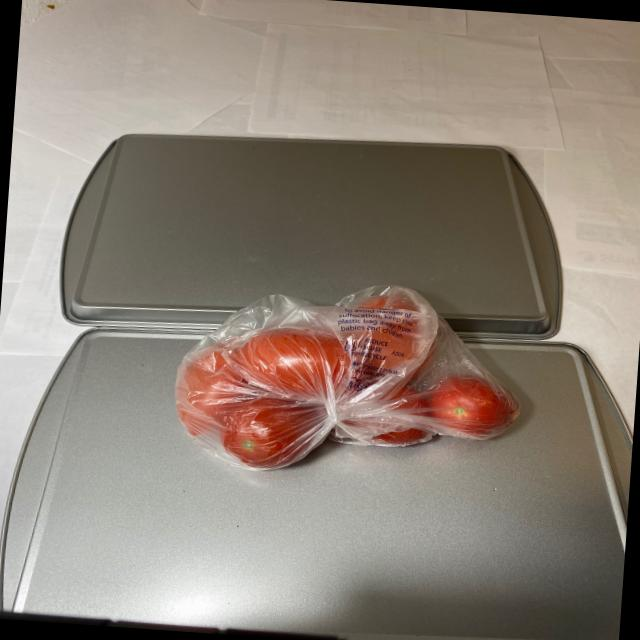tomato: (167, 274, 527, 484)
